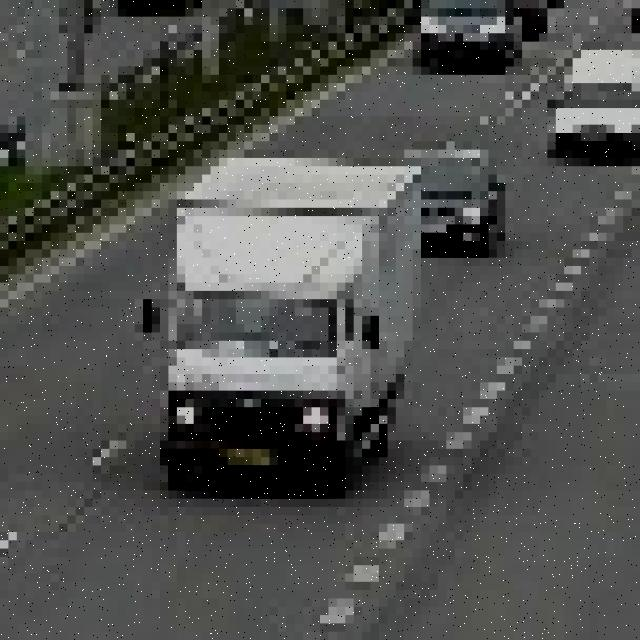truck: (134, 150, 412, 473)
